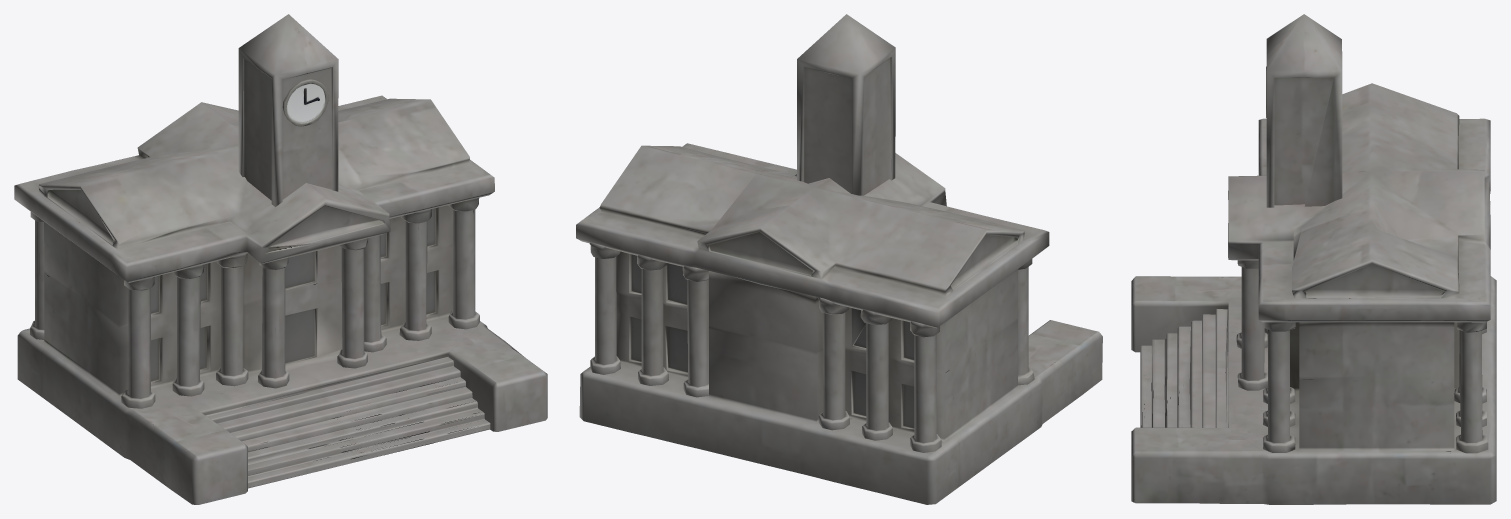
The model's file is 34-town-hall.glb.
The picture shows the model from 3 angles, left to right: view 1: azimuth 30°, elevation 25°; view 2: azimuth 150°, elevation 25°; view 3: azimuth 270°, elevation 25°; orthographic projection. The views are drawn at different scales.
Parts seen in each view (by area): view 1: geometry_0; view 2: geometry_0; view 3: geometry_0.
Part boxes in pixels (x1,y1,x2,y2): geometry_0: [14, 14, 547, 504]; geometry_0: [576, 14, 1102, 504]; geometry_0: [1131, 14, 1496, 504].
Bounding box in the file's own units: 0.9453 × 0.9512 × 0.7866.
Materials: 1 (1 with a texture image).
